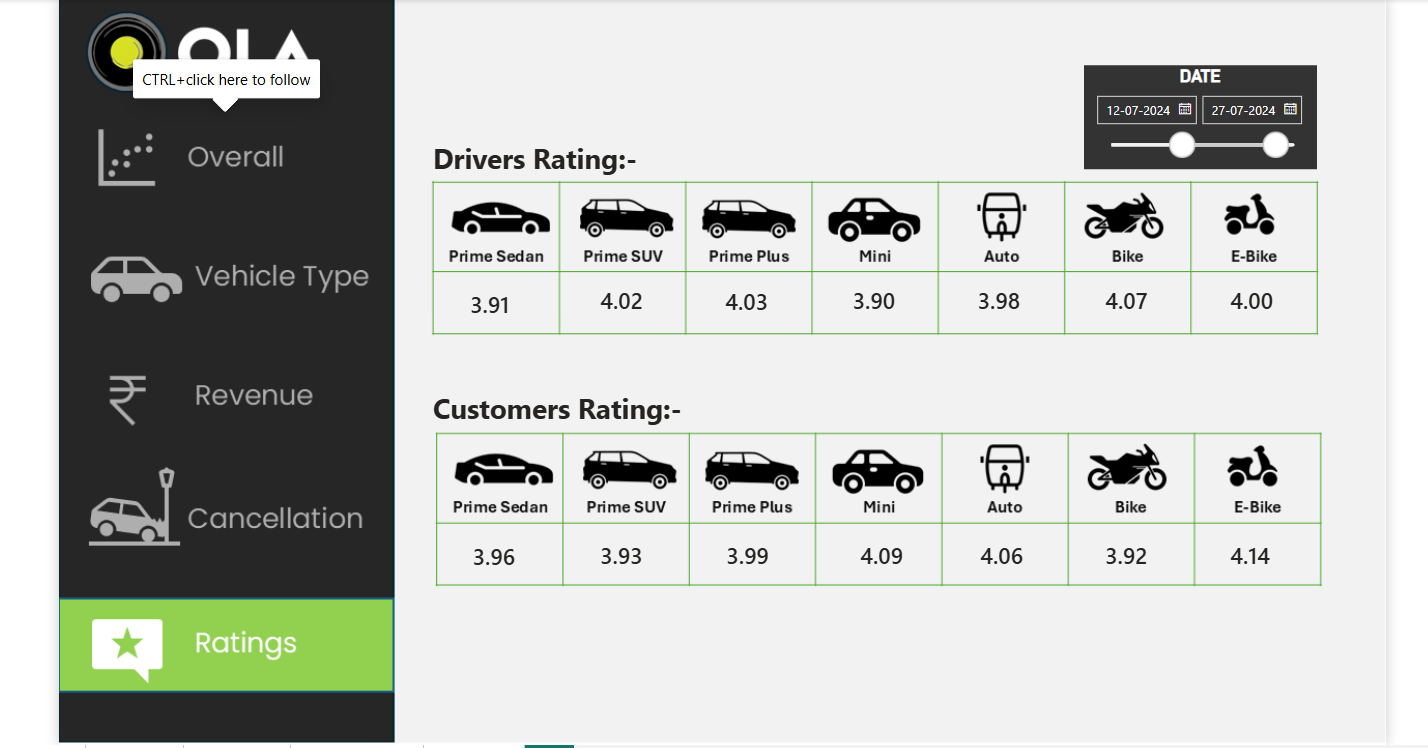

What the dashboard file says about the page in this screenshot:
{"tool":"powerbi","page":{"name":"Ratings","canvas":[1280,720],"ordinal":4},"visuals":[{"type":"actionButton","box":[0,223.8,322.5,92.5],"z":0},{"type":"actionButton","box":[0,338.8,322.5,92.5],"z":1000},{"type":"actionButton","box":[0,446.2,322.5,92.5],"z":2000},{"type":"actionButton","box":[0,112.5,322.5,92.5],"z":3000},{"type":"cardVisual","fields":{"Data":["Avg(Bookings.Driver_Ratings)"]},"box":[368.4,265.2,101.4,55.2],"z":4000},{"type":"cardVisual","fields":{"Data":["Avg(Bookings.Driver_Ratings)"]},"box":[493,261.6,101.4,55.2],"z":5000},{"type":"cardVisual","fields":{"Data":["Avg(Bookings.Driver_Ratings)"]},"box":[614,263.4,101.4,55.2],"z":6000},{"type":"cardVisual","fields":{"Data":["Avg(Bookings.Driver_Ratings)"]},"box":[736.8,261.6,101.4,55.2],"z":7000},{"type":"cardVisual","fields":{"Data":["Avg(Bookings.Driver_Ratings)"]},"box":[857.9,261.6,101.4,55.2],"z":8000},{"type":"cardVisual","fields":{"Data":["Avg(Bookings.Driver_Ratings)"]},"box":[980.7,261.6,101.4,55.2],"z":9000},{"type":"cardVisual","fields":{"Data":["Avg(Bookings.Driver_Ratings)"]},"box":[1101.7,261.6,101.4,55.2],"z":10000},{"type":"cardVisual","fields":{"Data":["Avg(Bookings.Customer_Rating)"]},"box":[370.2,507.2,101.4,60.5],"z":11000},{"type":"cardVisual","fields":{"Data":["Avg(Bookings.Customer_Rating)"]},"box":[493,505.5,101.4,60.5],"z":12000},{"type":"cardVisual","fields":{"Data":["Avg(Bookings.Customer_Rating)"]},"box":[615.8,505.5,101.4,60.5],"z":13000},{"type":"cardVisual","fields":{"Data":["Avg(Bookings.Customer_Rating)"]},"box":[744,505.5,101.4,60.5],"z":14000},{"type":"cardVisual","fields":{"Data":["Avg(Bookings.Customer_Rating)"]},"box":[859.6,505.5,101.4,60.5],"z":15000},{"type":"cardVisual","fields":{"Data":["Avg(Bookings.Customer_Rating)"]},"box":[980.7,505.5,101.4,60.5],"z":16000},{"type":"cardVisual","fields":{"Data":["Avg(Bookings.Customer_Rating)"]},"box":[1101.7,505.5,101.4,60.5],"z":17000},{"type":"textbox","box":[356,129.9,309.7,46.3],"z":18000},{"type":"textbox","box":[356,372,320.4,58.7],"z":19000},{"type":"slicer","title":"DATE","fields":{"Values":["Bookings.Date"]},"box":[989.6,64.1,224.3,99.7],"z":20000}]}

Visuals, with their boxes on the page's 1280x720 design canvas (x1, y1, x2, y2). These are canvas units, not pixel positions in the 1428x748 screenshot, which may show the page scaled, cropped or inside an application window:
actionButton: select_region(0, 224, 322, 316)
actionButton: select_region(0, 339, 322, 431)
actionButton: select_region(0, 446, 322, 539)
actionButton: select_region(0, 112, 322, 205)
cardVisual - Avg(Bookings.Driver_Ratings): select_region(368, 265, 470, 320)
cardVisual - Avg(Bookings.Driver_Ratings): select_region(493, 262, 594, 317)
cardVisual - Avg(Bookings.Driver_Ratings): select_region(614, 263, 715, 319)
cardVisual - Avg(Bookings.Driver_Ratings): select_region(737, 262, 838, 317)
cardVisual - Avg(Bookings.Driver_Ratings): select_region(858, 262, 959, 317)
cardVisual - Avg(Bookings.Driver_Ratings): select_region(981, 262, 1082, 317)
cardVisual - Avg(Bookings.Driver_Ratings): select_region(1102, 262, 1203, 317)
cardVisual - Avg(Bookings.Customer_Rating): select_region(370, 507, 472, 568)
cardVisual - Avg(Bookings.Customer_Rating): select_region(493, 506, 594, 566)
cardVisual - Avg(Bookings.Customer_Rating): select_region(616, 506, 717, 566)
cardVisual - Avg(Bookings.Customer_Rating): select_region(744, 506, 845, 566)
cardVisual - Avg(Bookings.Customer_Rating): select_region(860, 506, 961, 566)
cardVisual - Avg(Bookings.Customer_Rating): select_region(981, 506, 1082, 566)
cardVisual - Avg(Bookings.Customer_Rating): select_region(1102, 506, 1203, 566)
textbox: select_region(356, 130, 666, 176)
textbox: select_region(356, 372, 676, 431)
"DATE" slicer: select_region(990, 64, 1214, 164)
